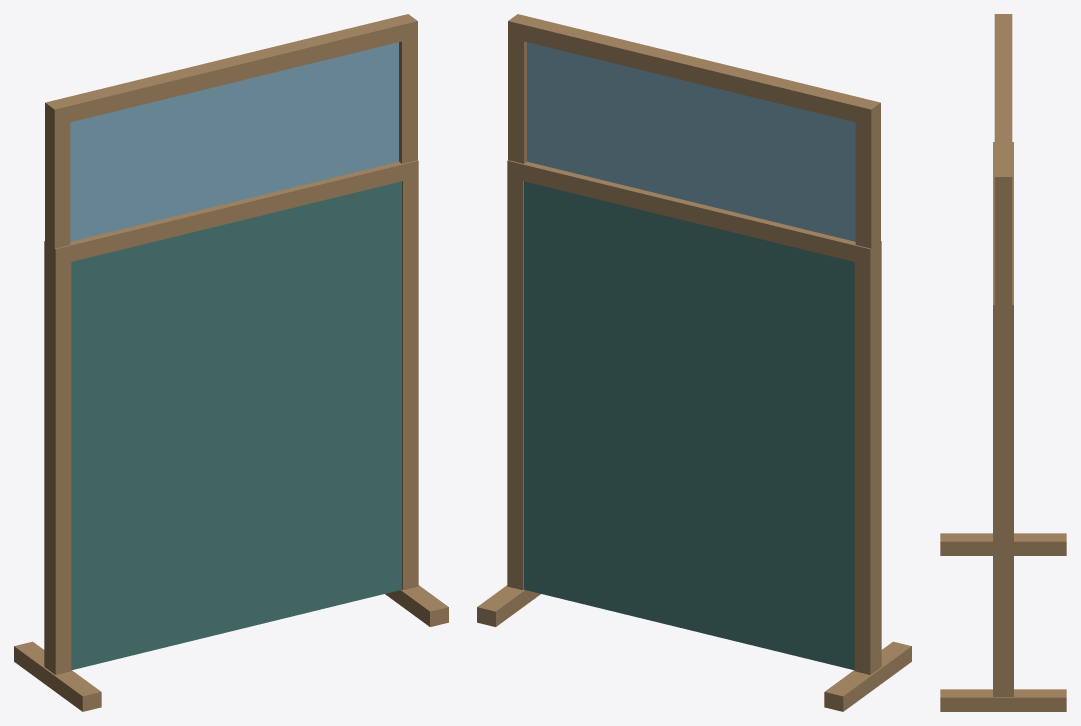
Rendered from office-partition-18.glb.
The picture shows the model from 3 angles, left to right: view 1: azimuth 30°, elevation 25°; view 2: azimuth 150°, elevation 25°; view 3: azimuth 270°, elevation 25°; orthographic projection. The views are drawn at different scales.
Visible parts, largest first — view 1: office_partition_18; view 2: office_partition_18; view 3: office_partition_18.
Boxes of the visible parts, bbox=[...] form: office_partition_18: bbox=[14, 14, 448, 711]; office_partition_18: bbox=[477, 14, 911, 711]; office_partition_18: bbox=[940, 14, 1066, 711].
Size of the model in its own units: 1.23 by 1.86 by 0.3999.
